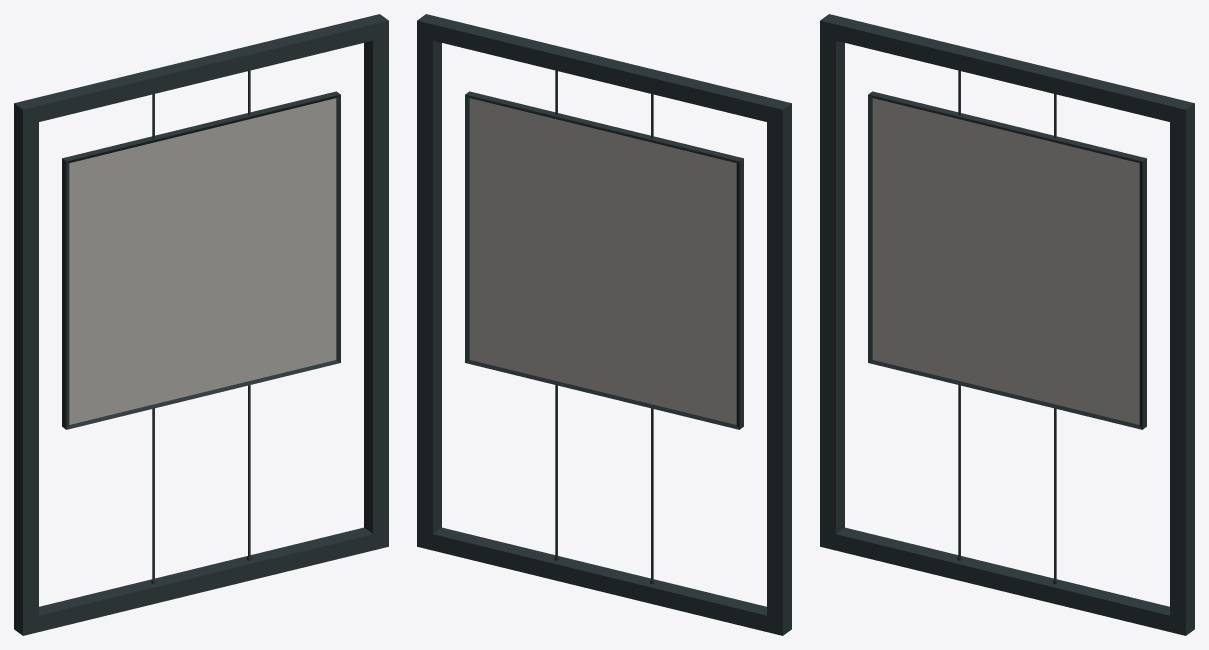
Rendered from sign3.glb.
3 renders of one model, left to right at view 1: azimuth 30°, elevation 25°; view 2: azimuth 150°, elevation 25°; view 3: azimuth 330°, elevation 25°, orthographic.
Parts seen in each view (by area): view 1: ExhibitPanel2.001; view 2: ExhibitPanel2.001; view 3: ExhibitPanel2.001.
Part boxes in pixels (x1,y1,x2,y2): ExhibitPanel2.001: (14, 14, 388, 635); ExhibitPanel2.001: (417, 14, 791, 635); ExhibitPanel2.001: (820, 14, 1194, 635).
Size of the model in its own units: 1.16 by 1.6 by 0.05.
Materials: 1 (1 with a texture image).
